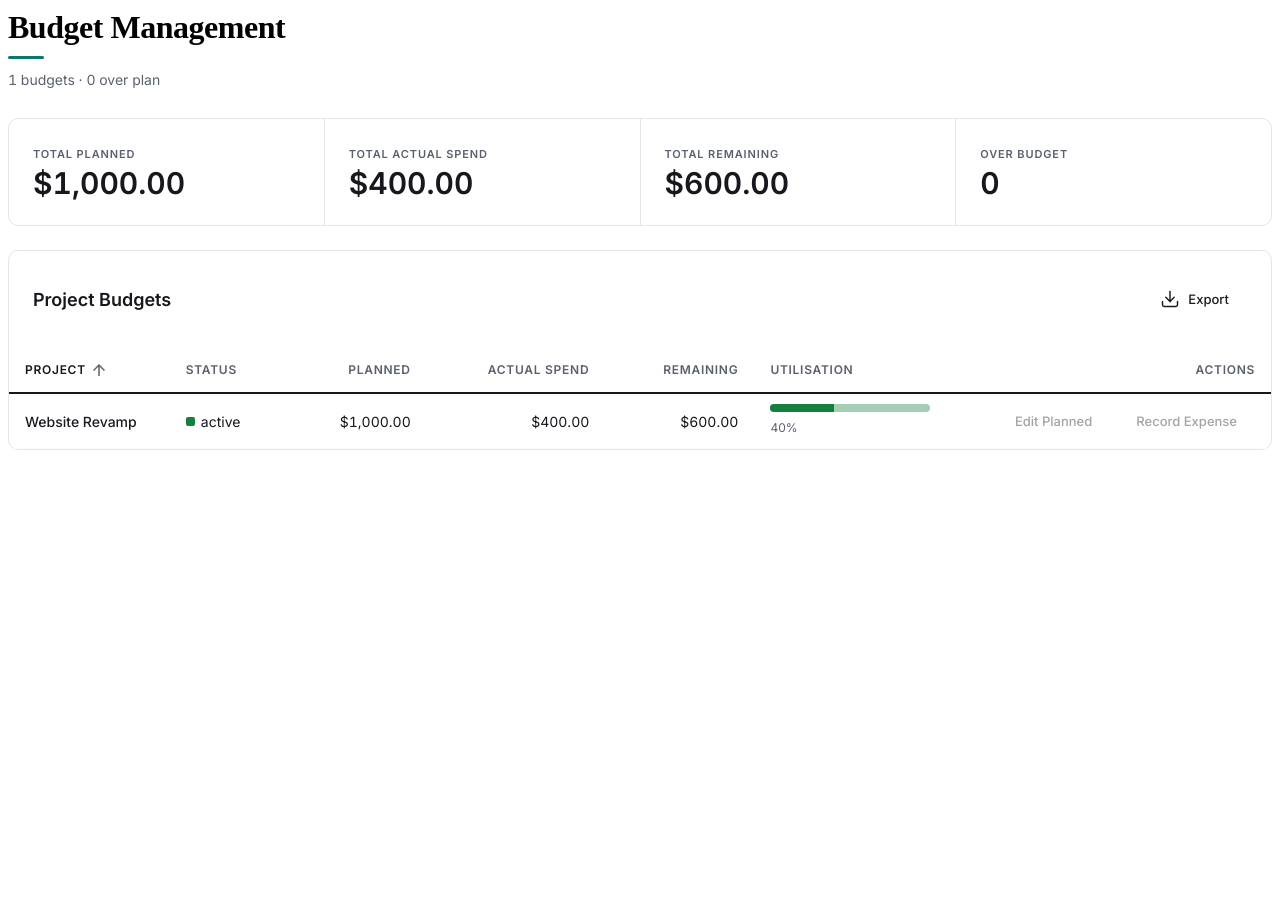
Test: Budgets page › edit planned amount › submits a valid amount as a Number and refreshes the list
expect the link "Website Revamp" is shown: met, box [25,413,137,430]
Click the button "Edit Planned" at (1054,421), box [997,406,1110,436]
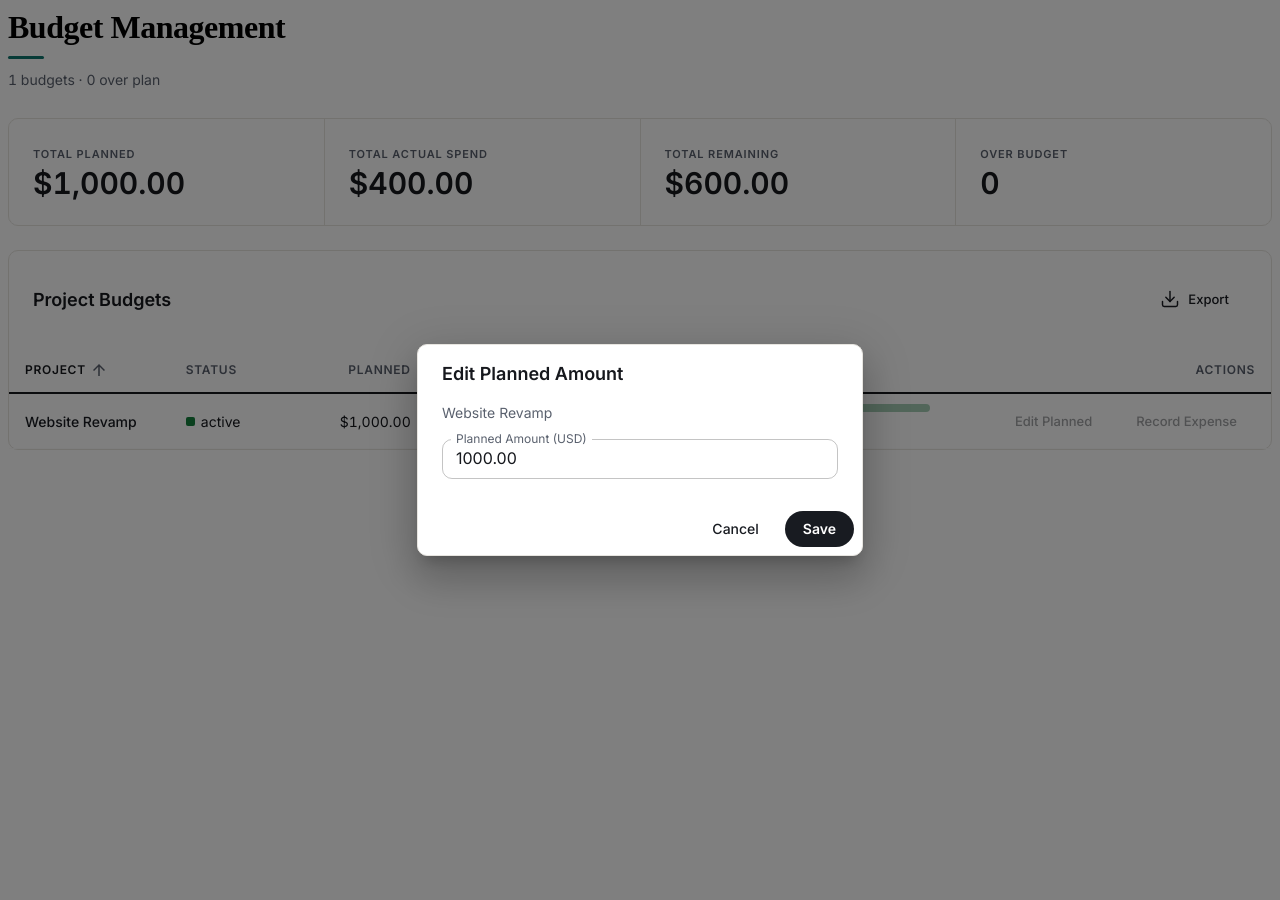
Replace the text in the number field labelled "Planned Amount (USD)" with "2500" at (640,459), box [442,439,838,479]
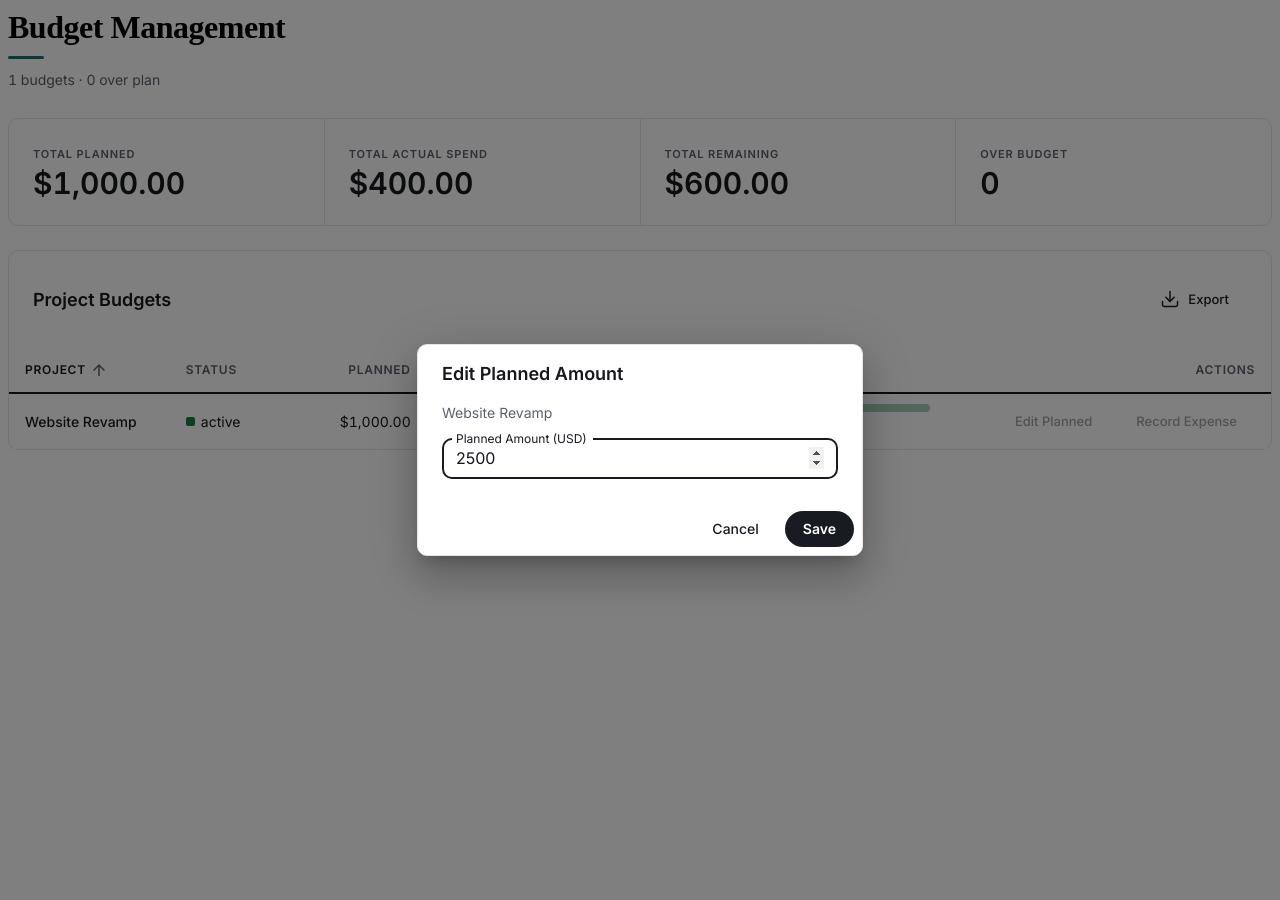
Click the button "Save" at (819,529), box [785,511,854,547]
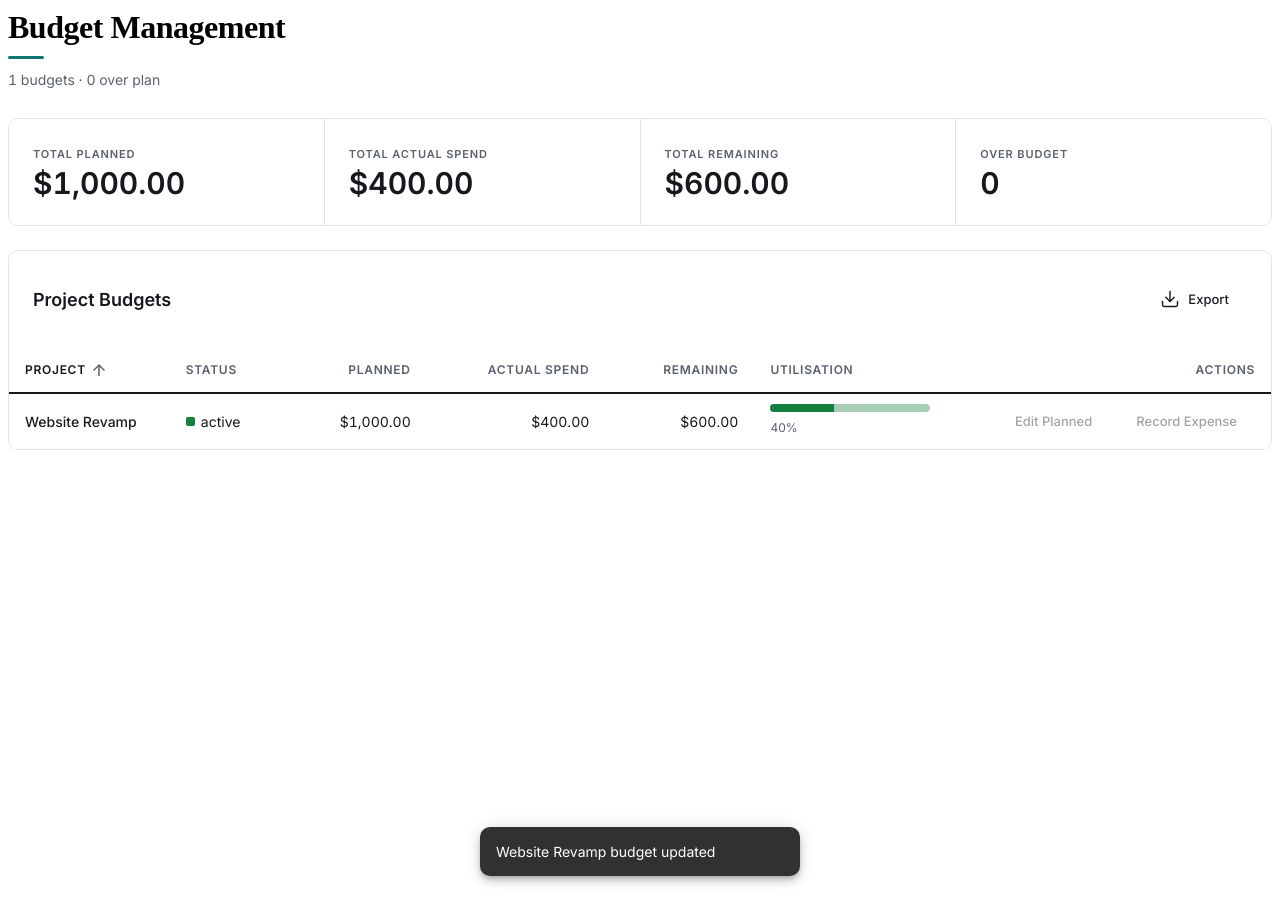
expect the heading "Edit Planned Amount" is gone: met
expect the text "Website Revamp budget updated" is shown: met, box [496,843,715,860]
